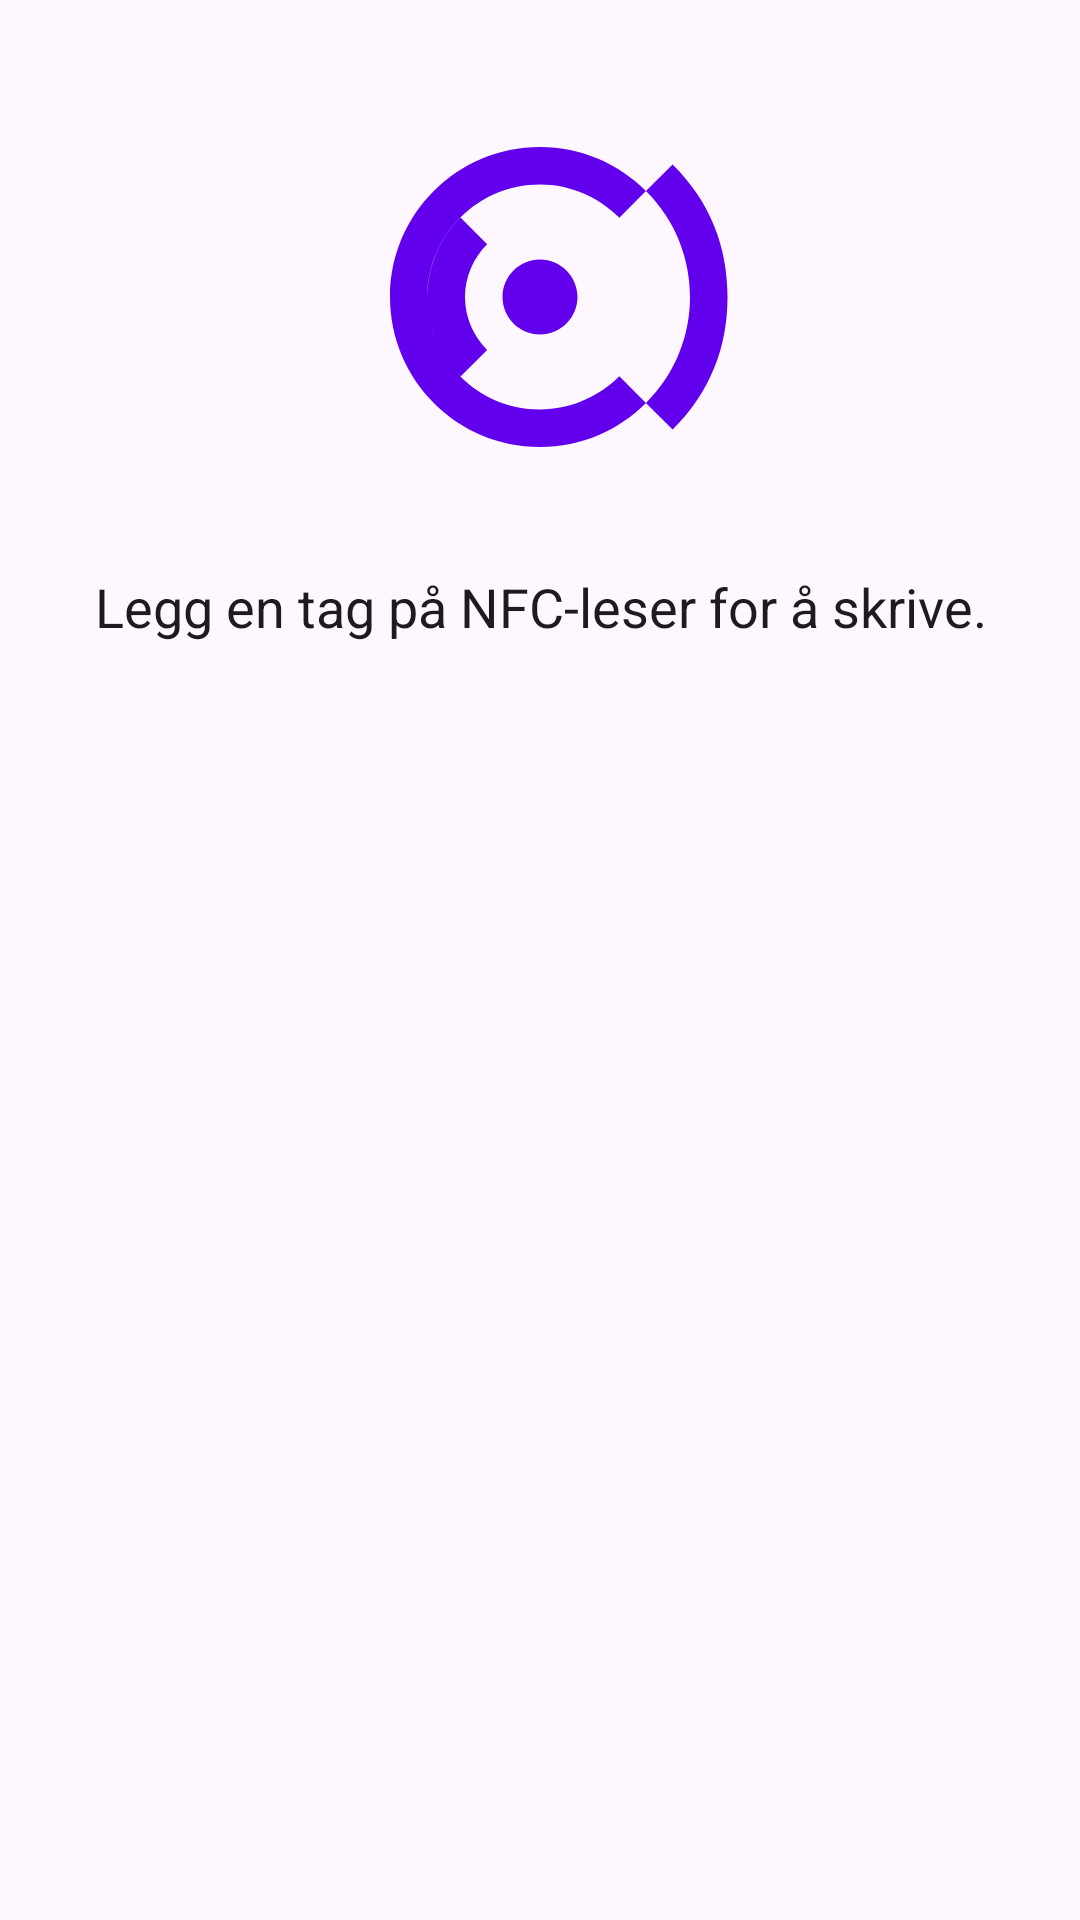

Named icons in this screenshot (1080*1920) and their centers, (x=x, y=y):
NFC Tag Illustration: (x=559, y=297)
